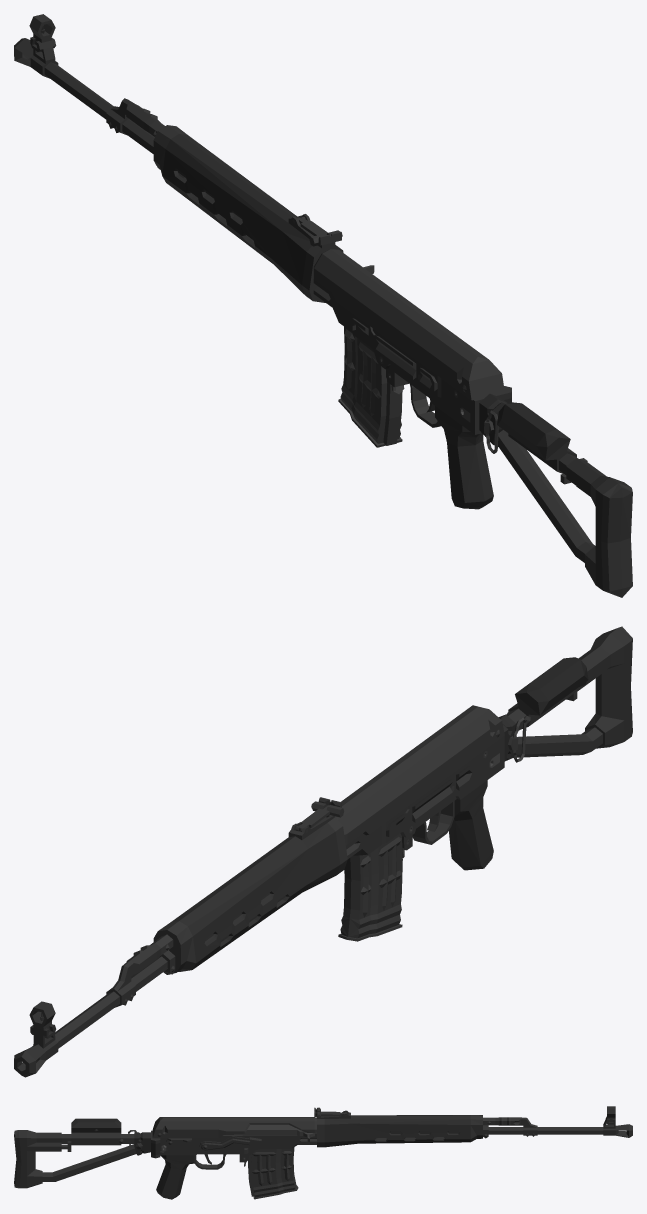
File: low-poly_svds.glb
3 renders of one model, top to bottom at view 1: azimuth 30°, elevation 25°; view 2: azimuth 150°, elevation 25°; view 3: azimuth 270°, elevation 25°, orthographic. The views are drawn at different scales.
Parts seen in each view (by area): view 1: svds_stock_6, svds_handguard_7, svds_dustcover_1, svds_reciever_3, svds_barrel_0, svds_magazine_8, svds_pistol_grip_4; view 2: svds_handguard_7, svds_stock_6, svds_dustcover_1, svds_reciever_3, svds_barrel_0, svds_magazine_8, svds_pistol_grip_4, svds_rear_sight_5; view 3: svds_stock_6, svds_handguard_7, svds_reciever_3, svds_dustcover_1, svds_barrel_0, svds_magazine_8, svds_pistol_grip_4, svds_boltcarrier_2, svds_rear_sight_5.
Part boxes in pixels (<box>): svds_stock_6: <box>479,394,632,597</box>; svds_handguard_7: <box>153,125,311,294</box>; svds_dustcover_1: <box>313,249,504,400</box>; svds_reciever_3: <box>302,245,511,434</box>; svds_barrel_0: <box>14,14,335,252</box>; svds_magazine_8: <box>338,326,402,447</box>; svds_pistol_grip_4: <box>435,406,493,509</box>; svds_handguard_7: <box>153,822,340,974</box>; svds_stock_6: <box>498,626,632,762</box>; svds_dustcover_1: <box>335,705,504,845</box>; svds_reciever_3: <box>328,736,504,874</box>; svds_barrel_0: <box>14,815,335,1077</box>; svds_magazine_8: <box>338,833,402,941</box>; svds_pistol_grip_4: <box>449,780,493,870</box>; svds_rear_sight_5: <box>295,797,344,832</box>; svds_stock_6: <box>14,1118,160,1188</box>; svds_handguard_7: <box>324,1115,482,1147</box>; svds_reciever_3: <box>151,1119,324,1169</box>; svds_dustcover_1: <box>152,1117,316,1138</box>; svds_barrel_0: <box>317,1106,632,1138</box>; svds_magazine_8: <box>248,1147,298,1199</box>; svds_pistol_grip_4: <box>156,1155,194,1199</box>; svds_boltcarrier_2: <box>234,1124,314,1141</box>; svds_rear_sight_5: <box>314,1107,346,1118</box>.
Bounding box in the file's own units: 0.389 × 1.04 × 6.44.
Materials: 1 (1 with a texture image).
